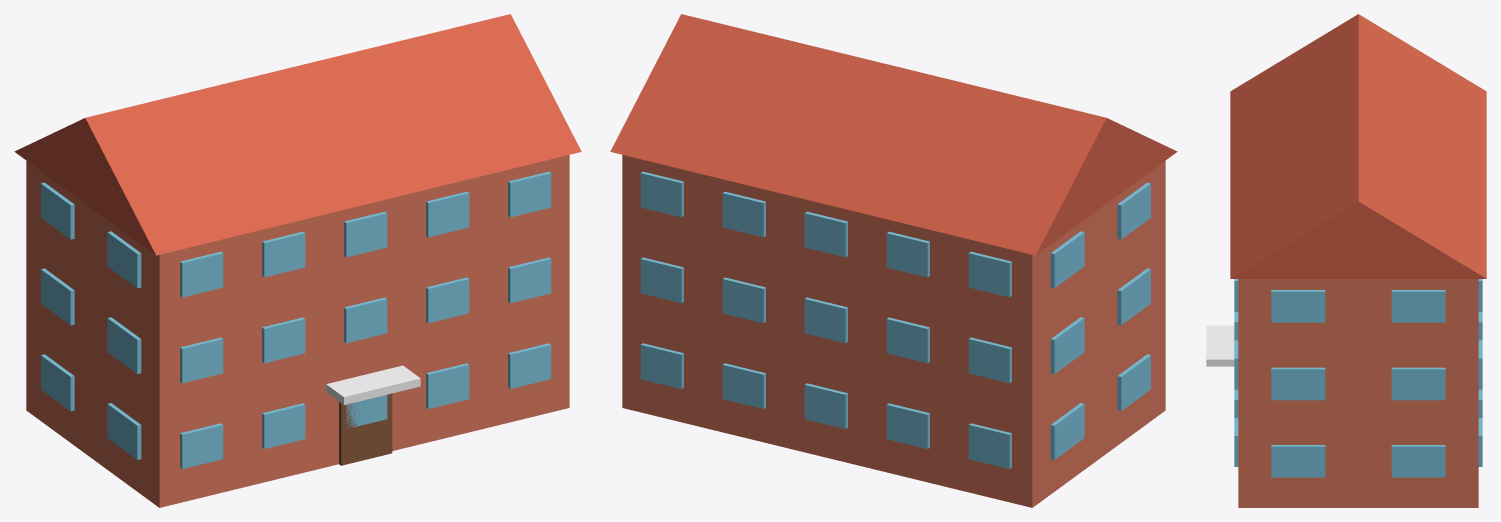
File: apartment_3.glb
3 views of the same model, side by side, from view 1: azimuth 30°, elevation 25°; view 2: azimuth 150°, elevation 25°; view 3: azimuth 270°, elevation 25° (orthographic). The views are drawn at different scales.
Parts seen in each view (by area): view 1: apartment_3_brick, apartment_3_roof_red, apartment_3_window, apartment_3_door, apartment_3_white; view 2: apartment_3_brick, apartment_3_roof_red, apartment_3_window; view 3: apartment_3_roof_red, apartment_3_brick, apartment_3_window, apartment_3_white.
Boxes of the visible parts, x1=… form: apartment_3_brick: x1=26, y1=155, x2=569, y2=507; apartment_3_roof_red: x1=14, y1=14, x2=581, y2=255; apartment_3_window: x1=41, y1=171, x2=551, y2=468; apartment_3_door: x1=339, y1=393, x2=392, y2=465; apartment_3_white: x1=326, y1=365, x2=420, y2=404; apartment_3_brick: x1=622, y1=155, x2=1165, y2=507; apartment_3_roof_red: x1=610, y1=14, x2=1177, y2=255; apartment_3_window: x1=640, y1=171, x2=1150, y2=468; apartment_3_roof_red: x1=1230, y1=14, x2=1486, y2=278; apartment_3_brick: x1=1238, y1=279, x2=1478, y2=507; apartment_3_window: x1=1234, y1=279, x2=1482, y2=477; apartment_3_white: x1=1206, y1=325, x2=1234, y2=366.
Bounding box in the file's own units: 16.6 × 12.8 × 10.5.
